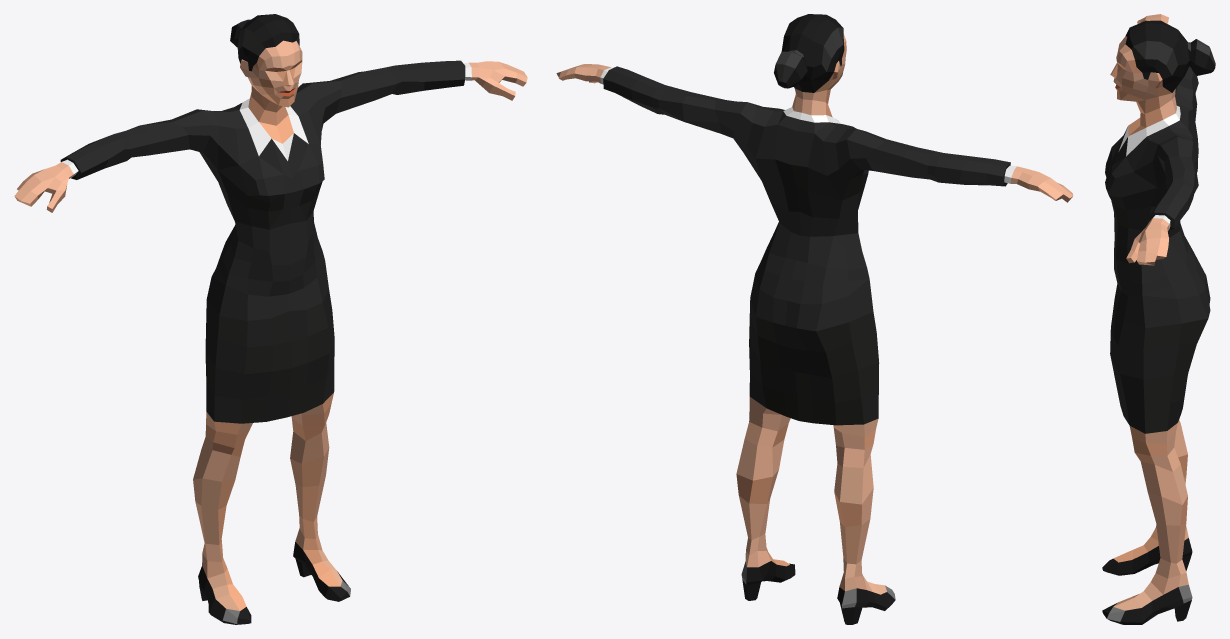
Rendered from Helen_(Heroine).fbx.
3 views of the same model, side by side, from view 1: azimuth 30°, elevation 25°; view 2: azimuth 150°, elevation 25°; view 3: azimuth 270°, elevation 25° (orthographic). The views are drawn at different scales.
Visible parts, largest first — view 1: lpFemale_formal_A; view 2: lpFemale_formal_A; view 3: lpFemale_formal_A.
Part boxes in pixels (left/top/right/bottom): lpFemale_formal_A: left=14, top=14, right=527, bottom=624; lpFemale_formal_A: left=556, top=14, right=1073, bottom=624; lpFemale_formal_A: left=1102, top=14, right=1215, bottom=624.
Bounding box in the file's own units: 153 × 166 × 29.83.
